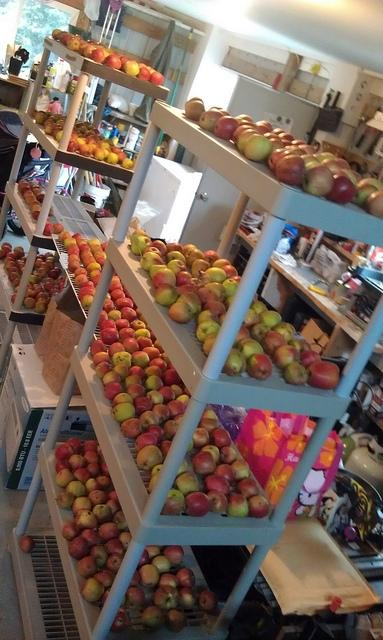apple: (302, 164, 335, 196), (326, 172, 356, 205), (276, 154, 306, 186), (306, 361, 339, 388), (244, 134, 272, 163), (174, 472, 204, 498), (232, 125, 262, 151), (154, 586, 180, 614), (236, 338, 264, 364), (182, 492, 210, 518), (137, 444, 163, 472), (222, 348, 247, 377), (273, 344, 300, 370), (352, 182, 378, 208), (261, 330, 287, 356), (246, 354, 272, 380), (176, 292, 202, 318), (236, 129, 260, 156), (162, 490, 186, 516), (213, 116, 238, 140), (81, 578, 105, 603), (192, 451, 216, 475), (227, 493, 250, 518), (199, 109, 224, 132), (284, 363, 309, 386), (110, 606, 130, 634), (68, 536, 90, 561), (110, 402, 136, 423), (204, 474, 231, 494), (206, 491, 229, 514), (168, 302, 192, 324), (124, 587, 146, 611), (272, 322, 296, 344), (204, 282, 228, 304), (164, 610, 188, 632), (138, 564, 160, 588), (196, 320, 220, 342), (142, 605, 164, 628), (210, 428, 232, 451), (156, 283, 178, 306), (237, 478, 259, 501), (197, 287, 218, 311), (134, 432, 158, 453), (232, 325, 252, 350), (249, 324, 271, 346), (214, 464, 236, 486), (98, 522, 120, 544), (197, 418, 220, 439), (77, 556, 98, 579), (264, 138, 284, 162), (74, 510, 98, 530), (152, 268, 176, 288), (258, 310, 282, 330), (140, 252, 164, 272), (366, 189, 382, 218), (163, 545, 184, 567), (88, 545, 109, 567), (248, 495, 268, 518), (121, 418, 142, 439), (299, 350, 321, 370), (131, 236, 153, 256), (92, 504, 113, 524), (133, 397, 153, 418), (184, 248, 205, 268), (72, 497, 92, 518), (185, 100, 205, 121), (176, 568, 196, 589), (231, 460, 250, 482), (192, 427, 211, 449), (286, 338, 312, 354), (93, 570, 116, 588), (162, 419, 180, 442), (203, 300, 226, 318), (140, 410, 160, 430), (157, 573, 182, 589), (80, 528, 100, 548), (55, 469, 76, 488), (166, 259, 187, 278), (178, 587, 197, 608), (152, 404, 170, 426), (242, 308, 260, 330), (174, 458, 190, 482), (221, 278, 240, 298), (99, 328, 120, 346), (205, 267, 227, 284), (125, 384, 147, 401), (197, 310, 220, 326), (73, 468, 92, 487), (103, 499, 122, 518), (219, 446, 237, 466), (104, 538, 124, 556), (203, 332, 218, 356), (130, 351, 150, 369), (202, 444, 220, 464), (68, 454, 88, 472), (104, 382, 122, 401), (191, 259, 211, 276), (66, 481, 86, 498), (54, 443, 74, 460), (113, 512, 130, 532), (192, 269, 212, 286), (166, 250, 187, 266), (111, 352, 132, 368), (130, 228, 151, 244), (112, 393, 134, 408), (149, 470, 162, 495), (162, 369, 180, 387), (62, 523, 80, 541), (176, 270, 194, 288), (199, 591, 216, 610), (124, 374, 144, 390), (156, 440, 172, 460), (238, 120, 260, 134), (106, 554, 123, 572), (122, 336, 139, 354), (112, 364, 129, 382), (96, 361, 113, 379), (102, 370, 121, 386), (145, 376, 164, 392), (55, 492, 74, 508), (141, 346, 160, 362), (219, 264, 238, 280), (90, 339, 107, 356), (19, 536, 36, 553), (123, 59, 140, 76), (204, 250, 220, 268), (146, 426, 164, 442), (85, 478, 101, 496), (150, 264, 168, 280), (108, 342, 126, 358), (136, 548, 150, 568), (320, 158, 343, 170), (66, 438, 83, 454), (340, 169, 356, 186), (81, 440, 98, 456), (146, 390, 164, 405), (137, 334, 152, 352), (144, 365, 162, 380), (78, 286, 96, 301), (54, 459, 72, 474), (148, 358, 167, 372), (118, 532, 132, 551), (358, 178, 382, 189), (120, 308, 136, 324), (90, 490, 106, 506), (96, 474, 112, 490), (119, 327, 135, 343), (158, 387, 175, 402), (152, 240, 167, 257), (143, 247, 162, 260), (145, 545, 161, 560), (129, 366, 145, 381), (83, 450, 99, 465), (106, 54, 121, 70), (93, 352, 110, 366), (100, 319, 118, 332), (166, 242, 184, 255), (116, 298, 134, 311), (128, 569, 140, 588), (80, 294, 94, 310), (86, 463, 101, 477), (110, 290, 125, 304), (91, 49, 106, 63), (300, 154, 319, 165), (114, 319, 130, 332), (101, 298, 114, 314), (255, 122, 272, 134), (330, 168, 350, 178), (298, 144, 318, 154), (83, 46, 98, 59), (250, 302, 266, 314), (182, 244, 198, 256), (212, 258, 231, 268), (137, 67, 150, 81), (176, 395, 190, 408), (79, 144, 93, 157), (150, 72, 164, 85), (109, 282, 124, 294), (87, 262, 102, 274), (99, 460, 110, 476), (224, 296, 235, 312), (80, 249, 93, 262), (66, 138, 78, 152), (34, 302, 48, 314), (22, 298, 36, 310), (75, 274, 89, 286), (131, 320, 146, 331), (102, 588, 111, 606), (202, 410, 218, 420), (278, 132, 294, 142), (98, 310, 108, 326), (64, 237, 76, 250), (108, 310, 121, 322), (44, 223, 56, 236), (151, 464, 163, 477), (68, 260, 81, 272), (106, 152, 119, 164), (13, 248, 26, 260), (36, 112, 48, 125), (171, 384, 182, 398), (154, 339, 164, 354), (96, 449, 105, 465), (289, 148, 307, 156), (122, 158, 134, 170), (68, 38, 80, 50), (238, 114, 254, 123), (93, 148, 105, 160), (78, 43, 89, 56), (89, 244, 102, 255), (136, 328, 150, 338), (160, 352, 170, 366), (91, 274, 101, 288), (74, 268, 88, 278), (88, 143, 100, 154), (97, 140, 110, 150), (263, 132, 279, 140), (305, 161, 321, 169), (186, 438, 194, 454), (57, 31, 68, 42), (116, 150, 126, 162), (8, 272, 20, 282), (94, 250, 106, 260), (76, 138, 86, 150), (79, 244, 91, 254), (52, 28, 62, 40), (314, 152, 326, 162), (6, 252, 18, 262), (44, 282, 56, 292), (67, 35, 80, 44), (86, 238, 100, 246), (80, 281, 94, 289), (218, 313, 226, 327), (228, 276, 242, 284), (29, 200, 40, 210), (45, 260, 56, 270), (54, 127, 64, 138), (119, 57, 129, 68), (53, 224, 64, 234), (108, 491, 119, 501), (182, 387, 192, 398), (26, 194, 36, 205), (138, 315, 148, 326), (68, 254, 80, 263), (56, 130, 64, 143), (102, 138, 115, 146), (36, 268, 46, 278), (96, 258, 106, 268), (4, 257, 15, 266), (290, 140, 306, 146), (320, 152, 336, 158), (68, 244, 80, 252), (284, 144, 300, 150), (218, 109, 231, 116), (150, 331, 157, 344), (57, 275, 66, 285), (166, 362, 176, 371), (78, 126, 88, 135), (48, 270, 58, 279), (20, 186, 30, 195), (27, 289, 37, 298), (45, 256, 56, 264), (101, 149, 109, 160), (45, 277, 56, 285), (72, 233, 83, 241), (259, 120, 270, 128), (68, 248, 79, 256), (36, 298, 50, 304), (131, 298, 138, 310), (76, 239, 88, 246), (86, 136, 96, 144), (2, 242, 12, 250), (36, 254, 46, 262), (32, 210, 40, 220), (13, 278, 21, 288), (29, 274, 37, 284), (2, 246, 12, 254), (110, 276, 120, 284), (112, 146, 122, 154), (44, 120, 54, 128), (100, 242, 108, 252), (95, 134, 106, 141), (272, 128, 284, 134), (136, 308, 142, 320), (36, 194, 44, 203), (14, 259, 26, 265), (103, 48, 110, 58), (104, 48, 114, 55), (32, 188, 42, 195), (38, 111, 51, 116), (45, 127, 53, 135), (28, 180, 36, 188), (18, 262, 25, 271), (252, 293, 258, 303), (11, 293, 17, 303), (137, 63, 147, 69), (234, 117, 244, 123), (74, 34, 84, 40), (0, 250, 6, 260), (10, 262, 17, 270), (76, 122, 84, 129), (53, 114, 62, 120), (87, 124, 96, 130), (210, 106, 223, 110), (92, 128, 100, 134), (146, 324, 152, 332), (83, 120, 91, 126), (148, 69, 156, 75), (18, 180, 27, 185), (72, 126, 79, 132), (106, 292, 111, 300), (96, 45, 105, 49), (56, 120, 65, 124), (27, 286, 35, 290), (21, 257, 27, 262), (46, 218, 50, 224), (59, 118, 66, 121), (102, 266, 104, 270), (128, 58, 132, 60)
